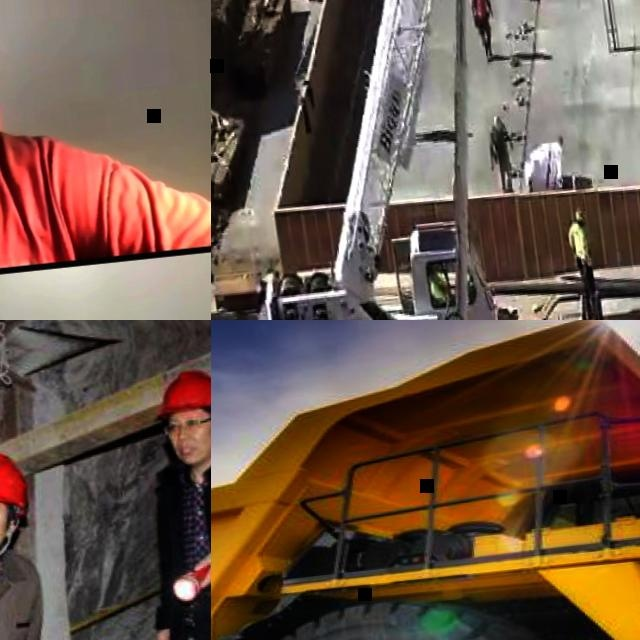Hardhat: (153, 364, 211, 421), (0, 444, 29, 519), (491, 115, 502, 132), (574, 207, 584, 222)
NO-Mask: (172, 430, 211, 464)
NO-Safety Vest: (0, 125, 87, 295), (153, 454, 211, 623), (492, 132, 507, 158)
Person: (0, 0, 211, 307), (125, 360, 211, 640), (0, 443, 78, 640), (564, 207, 598, 317), (483, 111, 517, 193), (467, 0, 497, 63), (426, 264, 451, 305)
Safety Vest: (570, 228, 587, 256), (429, 277, 445, 302), (472, 0, 487, 18)
machinery: (211, 0, 640, 320), (211, 320, 640, 640)
